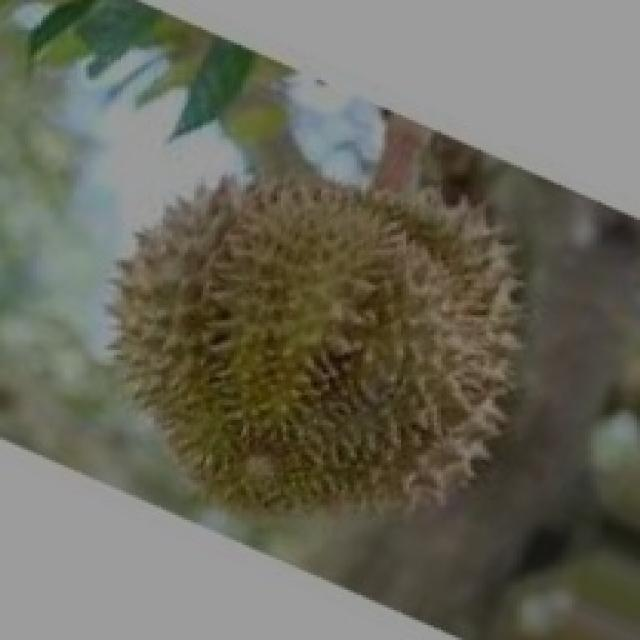fruit: (178, 142, 616, 600)
